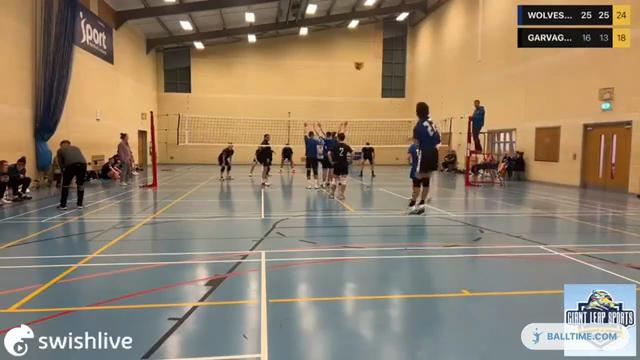battuta: (399, 98, 443, 224)
